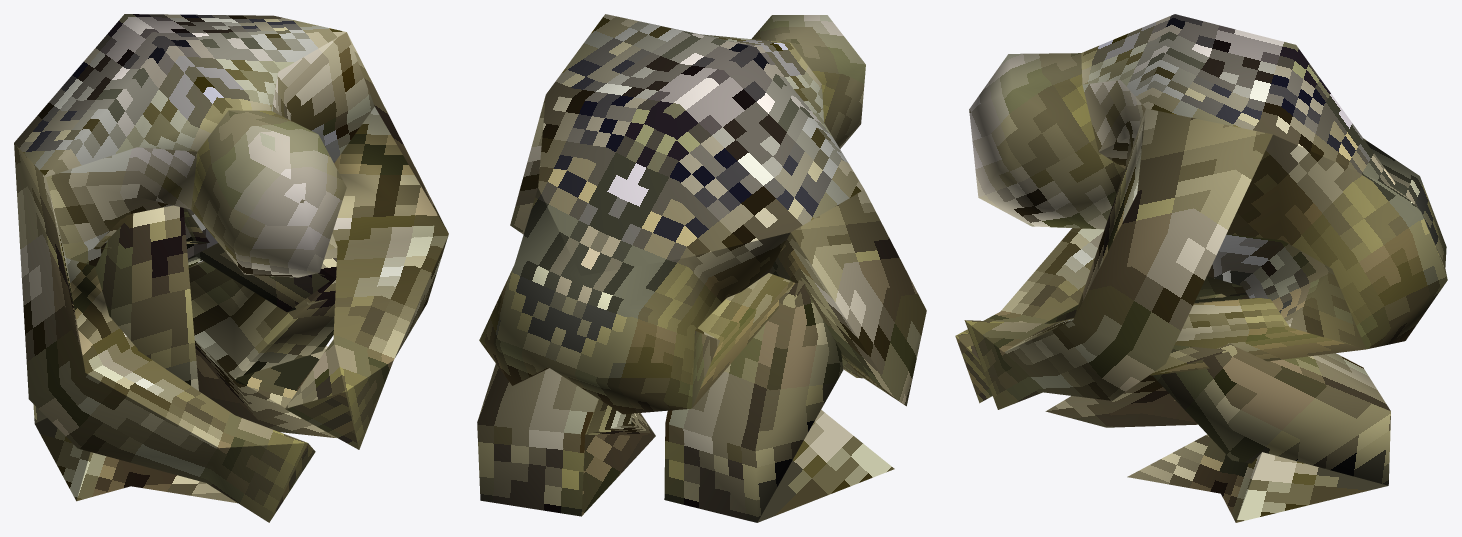
File: ball_of_fire_prometheus_base.glb
The picture shows the model from 3 angles, left to right: view 1: azimuth 30°, elevation 25°; view 2: azimuth 150°, elevation 25°; view 3: azimuth 270°, elevation 25°; orthographic projection. The views are drawn at different scales.
Parts seen in each view (by area): view 1: MeshRoot; view 2: MeshRoot; view 3: MeshRoot.
Part boxes in pixels (x1,y1,x2,y2): MeshRoot: (14,14,448,522); MeshRoot: (477,14,926,522); MeshRoot: (955,14,1447,522).
Bounding box in the file's own units: 1.46 × 1.47 × 1.66.
2 materials, 2 textured.
